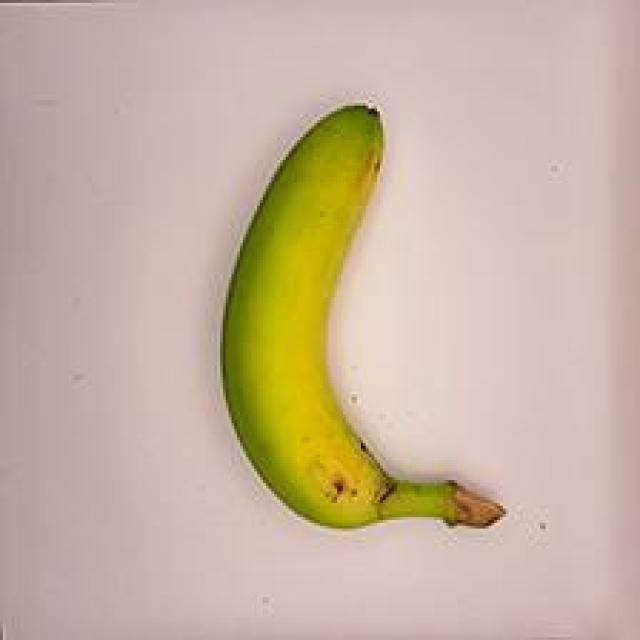Unripe: (180, 64, 514, 563)
